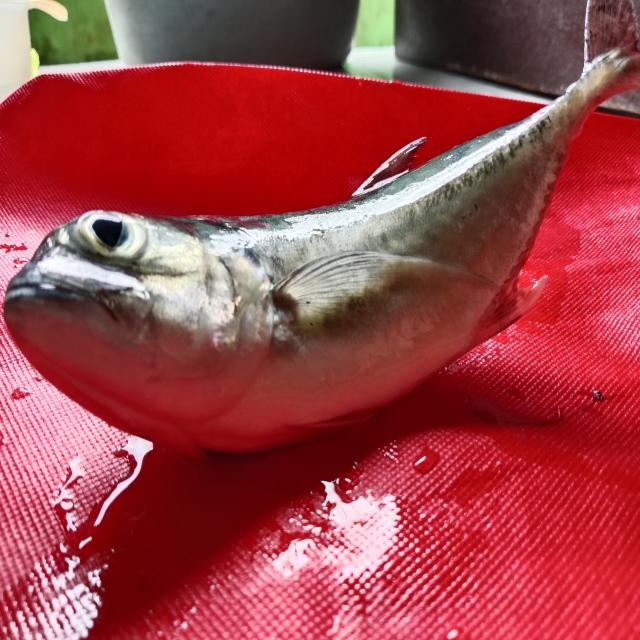ikan: (9, 32, 618, 474)
